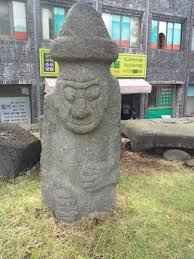Stone Statue: (30, 1, 129, 233)
